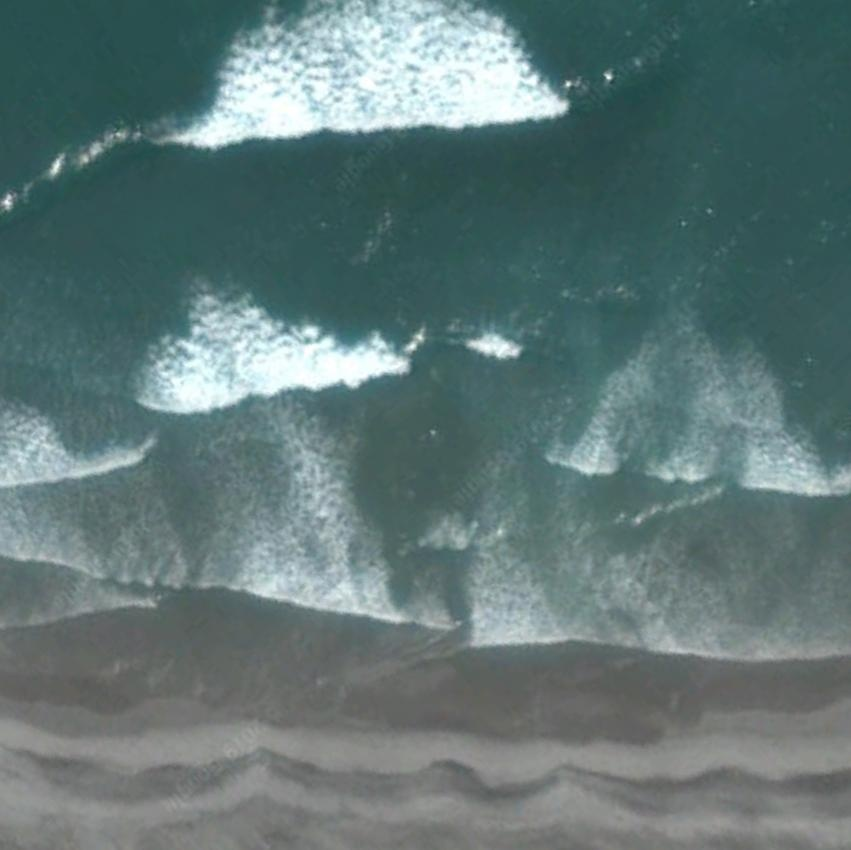rip_current: (300, 300, 639, 636)
